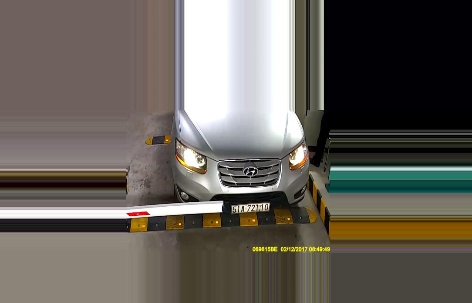plate: (231, 197, 271, 215)
